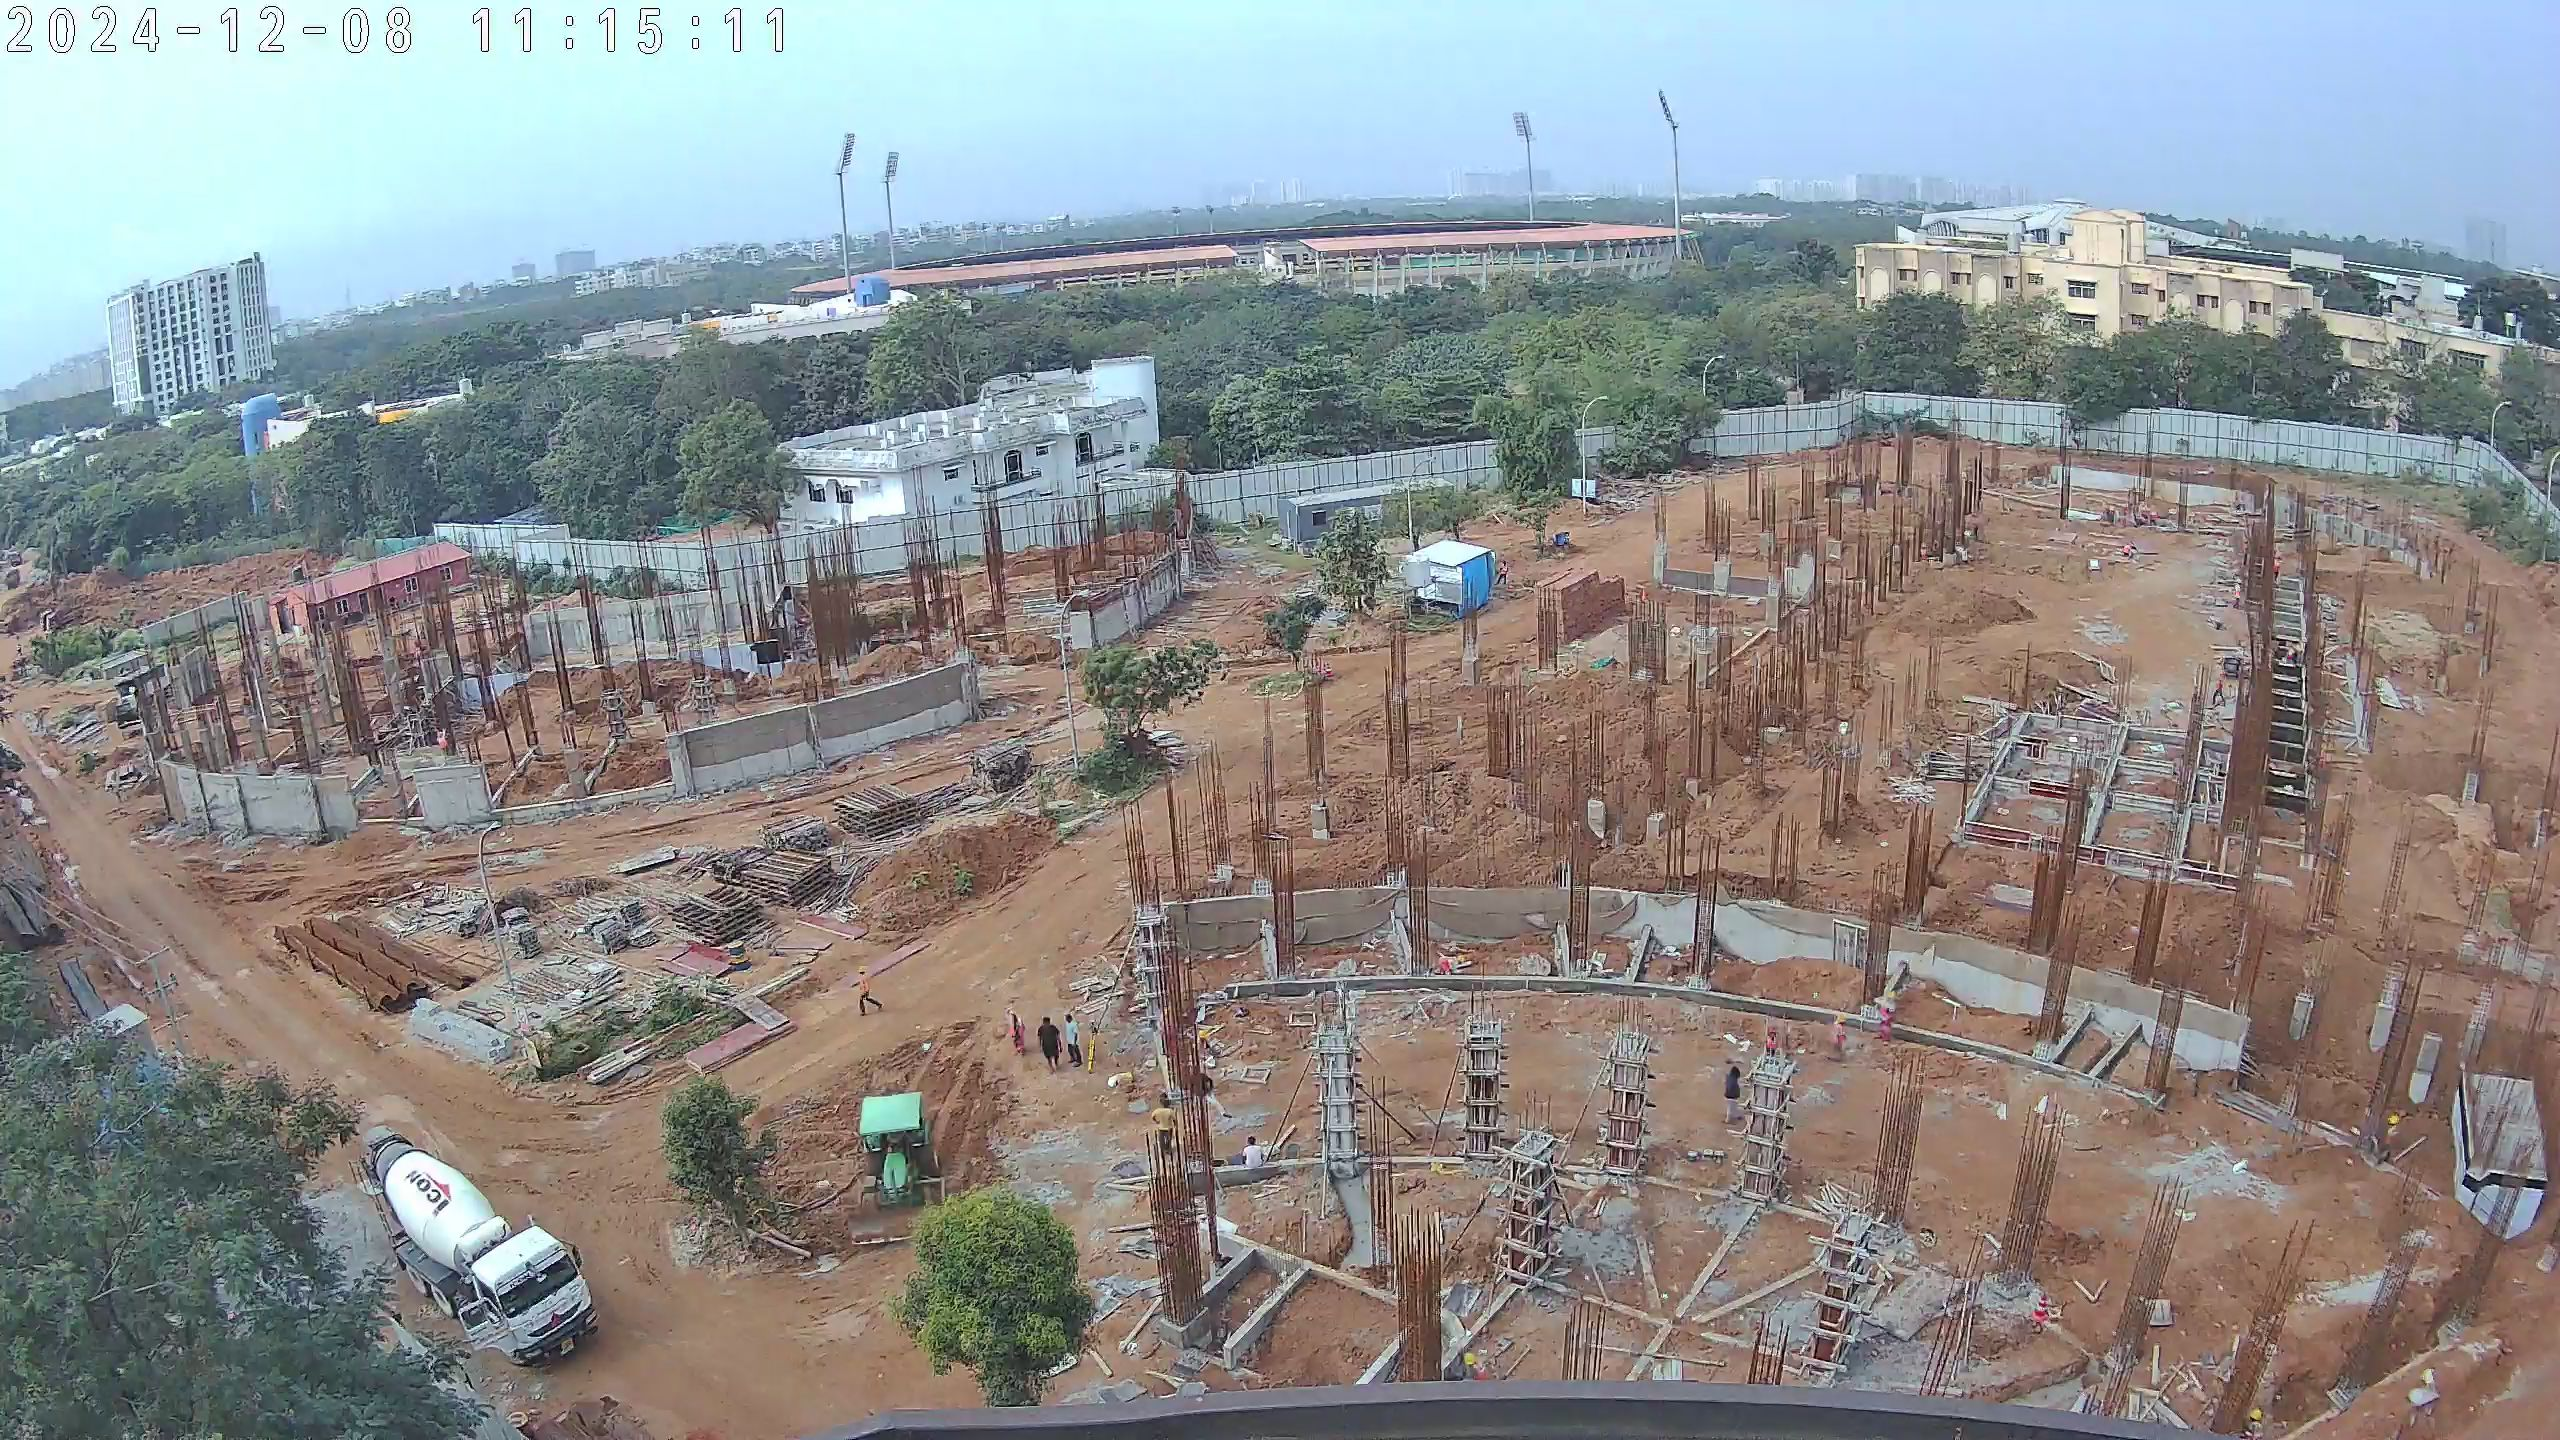bulldozer: (843, 1087, 957, 1247)
truck: (356, 1124, 600, 1372)
worker: (1025, 995, 1066, 1085), (1060, 1008, 1106, 1066), (1143, 1095, 1186, 1154), (841, 964, 881, 1020), (1724, 1054, 1750, 1133), (1000, 1010, 1029, 1072), (1831, 1008, 1856, 1077), (1874, 1008, 1908, 1058), (1759, 1019, 1789, 1070), (1242, 1132, 1271, 1174), (2277, 635, 2311, 669), (2270, 543, 2291, 594), (2211, 664, 2229, 712), (2116, 539, 2144, 566), (433, 726, 453, 760), (2230, 576, 2246, 613), (2143, 501, 2163, 530), (1493, 558, 1512, 588), (1918, 539, 1931, 569)
